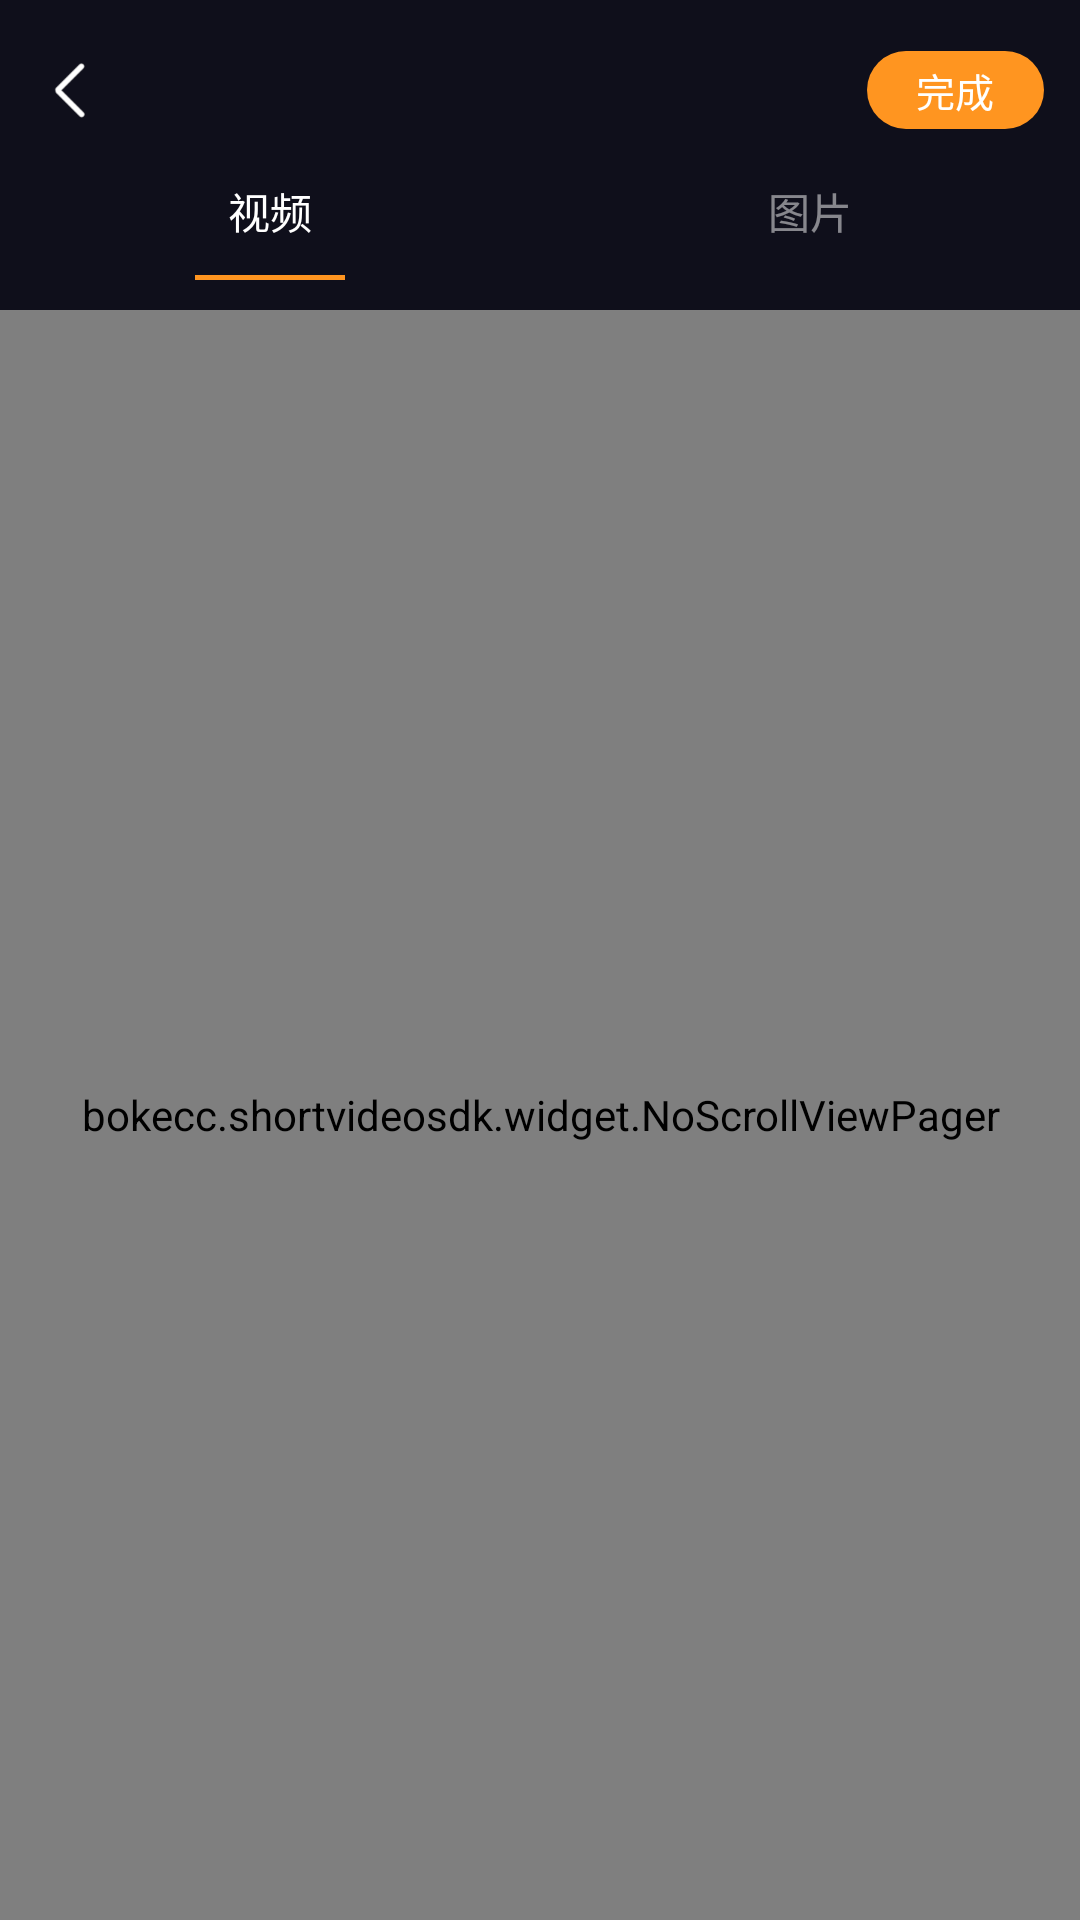

Named icons in this screenshot (1080 x 1920) and their centers, (x=x, y=y):
back: (x=70, y=90)
